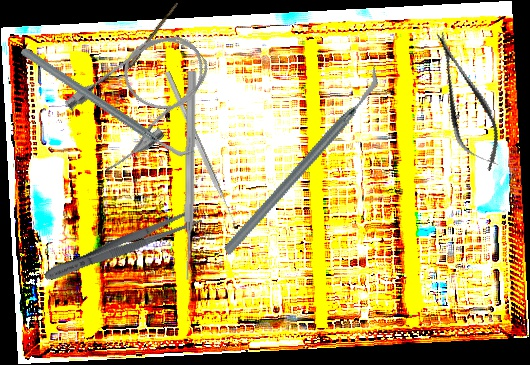Cannula: (57, 17, 227, 178)
Chopper: (180, 64, 424, 258), (18, 1, 196, 204)
Dressing Forceps: (41, 204, 204, 287)
Micro Scissor: (421, 24, 511, 179)
Pusher: (163, 70, 240, 230), (181, 70, 198, 281)
Surgical Spoon: (110, 0, 179, 93)
